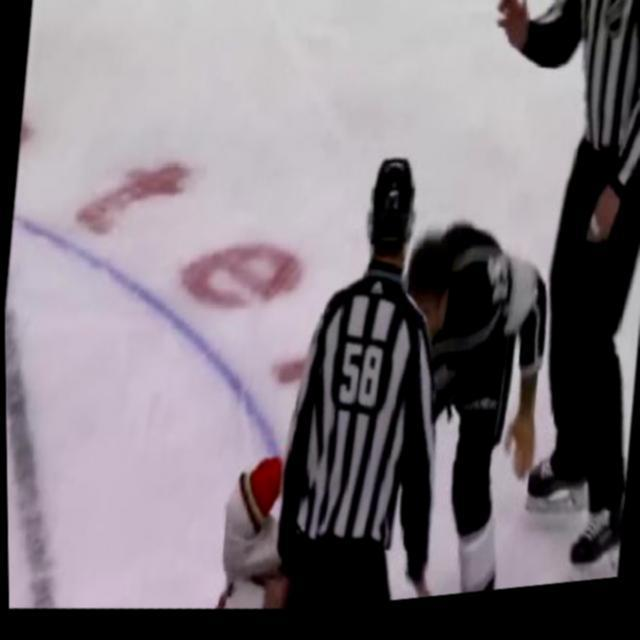fight: (204, 132, 566, 624)
